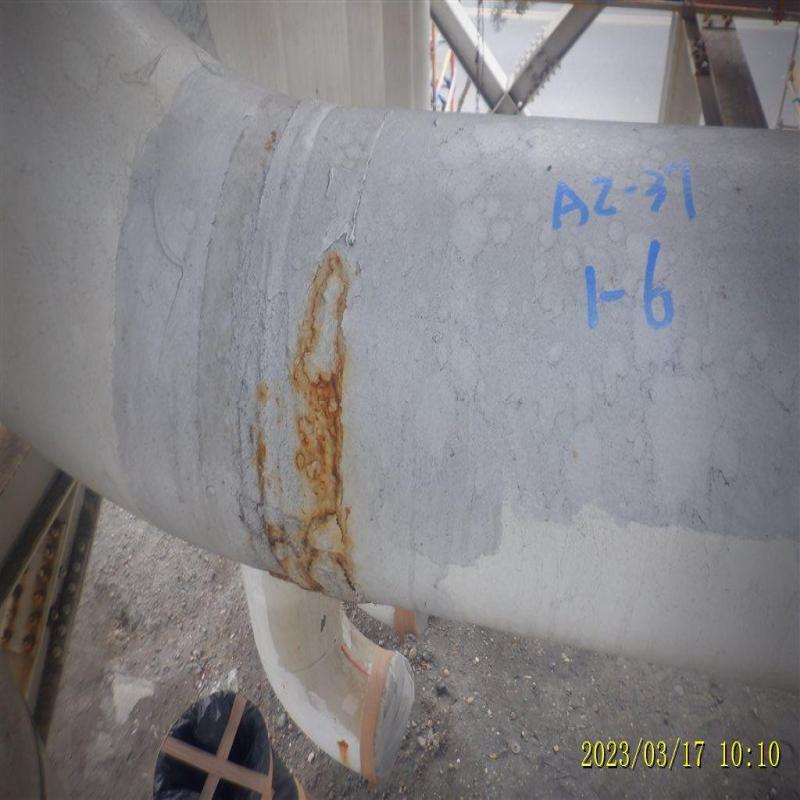corrosion: (304, 336, 338, 560)
